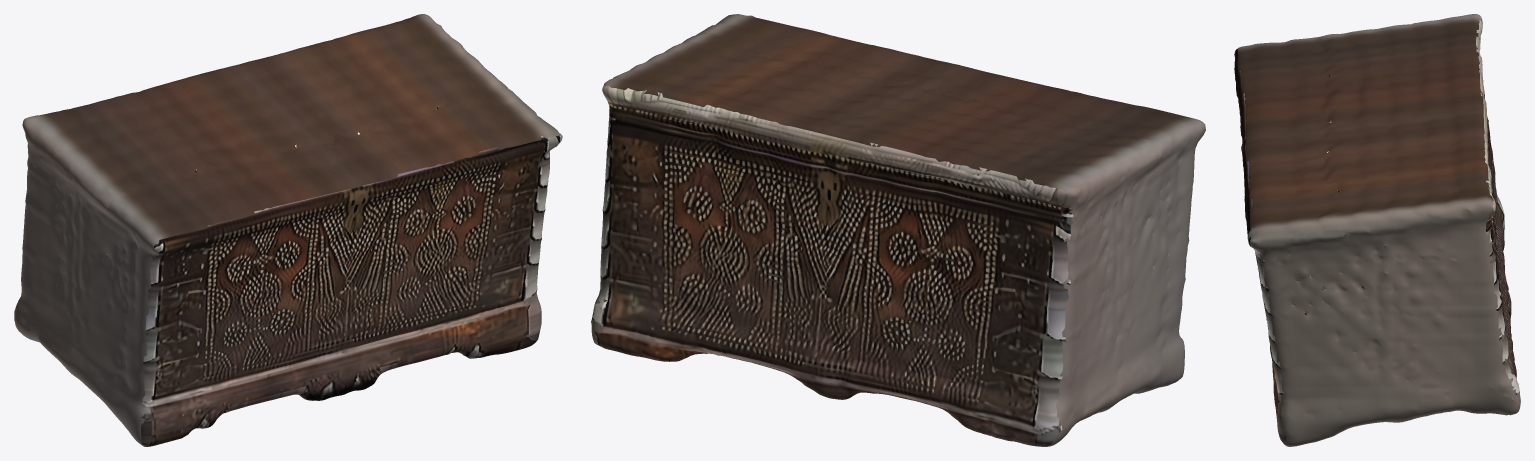
File: kfl-2301.glb
3 renders of one model, left to right at view 1: azimuth 30°, elevation 25°; view 2: azimuth 150°, elevation 25°; view 3: azimuth 270°, elevation 25°, orthographic. The views are drawn at different scales.
Visible parts, largest first — view 1: kfl-2301; view 2: kfl-2301; view 3: kfl-2301.
Boxes of the visible parts, bbox=[...] form: kfl-2301: bbox=[14, 14, 562, 446]; kfl-2301: bbox=[591, 14, 1205, 446]; kfl-2301: bbox=[1234, 14, 1520, 446].
Bounding box in the file's own units: 0.9895 × 0.5721 × 0.6031.
4 materials, 4 textured.
